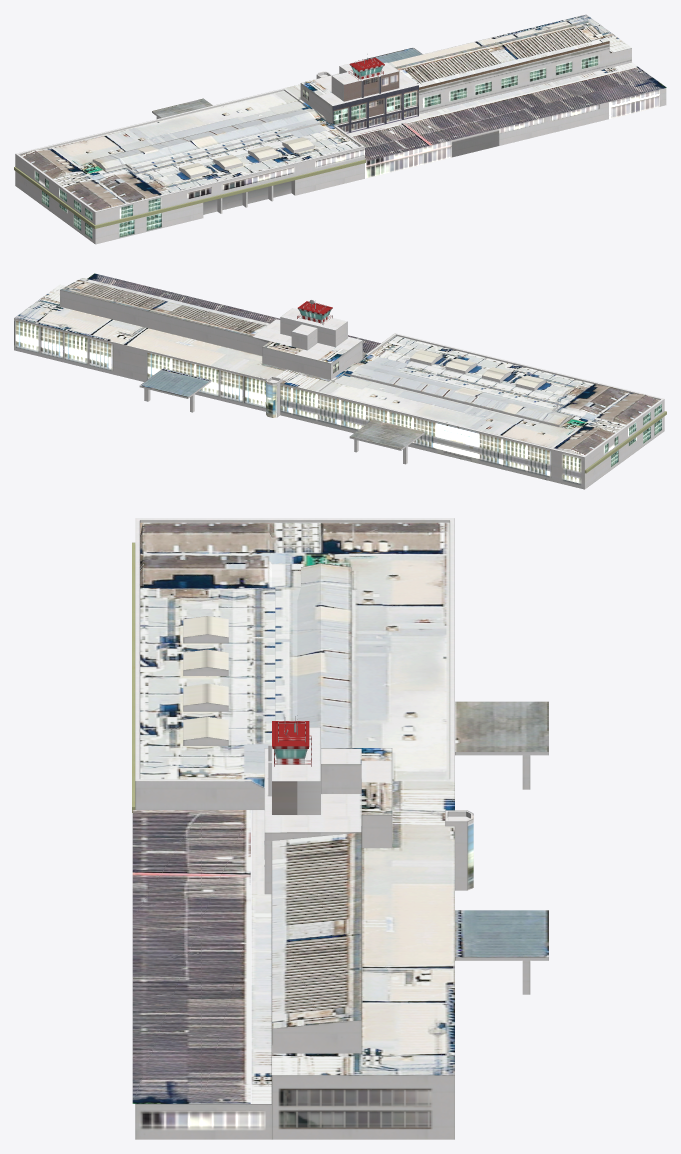
The model's file is TERMINAL_2.gltf.
The picture shows the model from 3 angles, top to bottom: view 1: azimuth 30°, elevation 25°; view 2: azimuth 150°, elevation 25°; view 3: azimuth 270°, elevation 25°; orthographic projection. The views are drawn at different scales.
Parts seen in each view (by area): view 1: node1; view 2: node1; view 3: node1.
Part boxes in pixels (x1=…): node1: x1=14, y1=14, x2=666, y2=244; node1: x1=14, y1=273, x2=666, y2=489; node1: x1=132, y1=518, x2=548, y2=1139.
Size of the model in its own units: 197 by 28.2 by 62.19.
